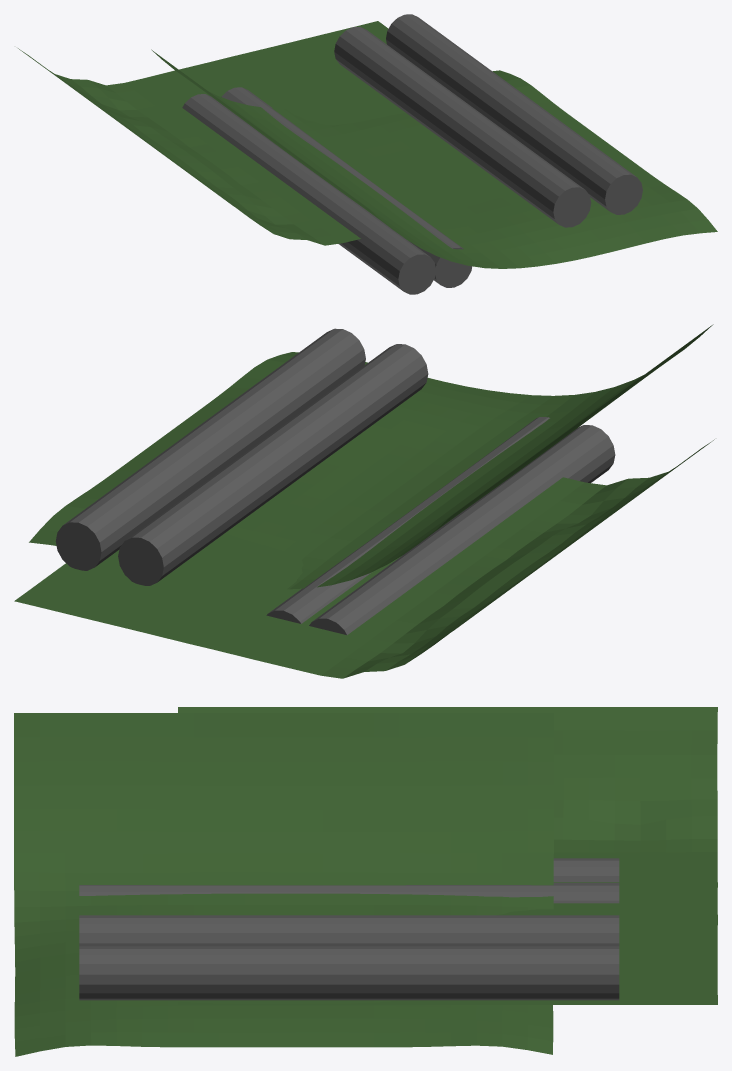
Rendered from tentParts.fbx.
3 views of the same model, one above another, from view 1: azimuth 30°, elevation 25°; view 2: azimuth 150°, elevation 25°; view 3: azimuth 270°, elevation 25° (orthographic). The views are drawn at different scales.
Visible parts, largest first — view 1: 平面, 平面.001, 円柱.003, 円柱.002, 円柱.001, 円柱; view 2: 平面.001, 平面, 円柱.003, 円柱.002, 円柱.001, 円柱; view 3: 平面, 平面.001, 円柱.002, 円柱.003, 円柱, 円柱.001.
Boxes of the visible parts, x1,y1,x2,y2 form: 平面: [151, 49, 717, 268]; 平面.001: [18, 21, 405, 245]; 円柱.003: [334, 27, 591, 227]; 円柱.002: [386, 14, 642, 214]; 円柱.001: [182, 94, 435, 294]; 円柱: [221, 87, 472, 287]; 平面.001: [14, 439, 714, 678]; 平面: [29, 324, 713, 589]; 円柱.003: [118, 344, 428, 585]; 円柱.002: [55, 328, 365, 570]; 円柱.001: [309, 425, 615, 634]; 円柱: [266, 417, 549, 623]; 平面: [14, 713, 553, 1056]; 平面.001: [178, 707, 717, 1004]; 円柱.002: [79, 946, 619, 1000]; 円柱.003: [79, 915, 619, 946]; 円柱: [79, 883, 619, 903]; 円柱.001: [553, 858, 619, 882].
Bounding box in the file's own units: 221 × 63.15 × 261.
